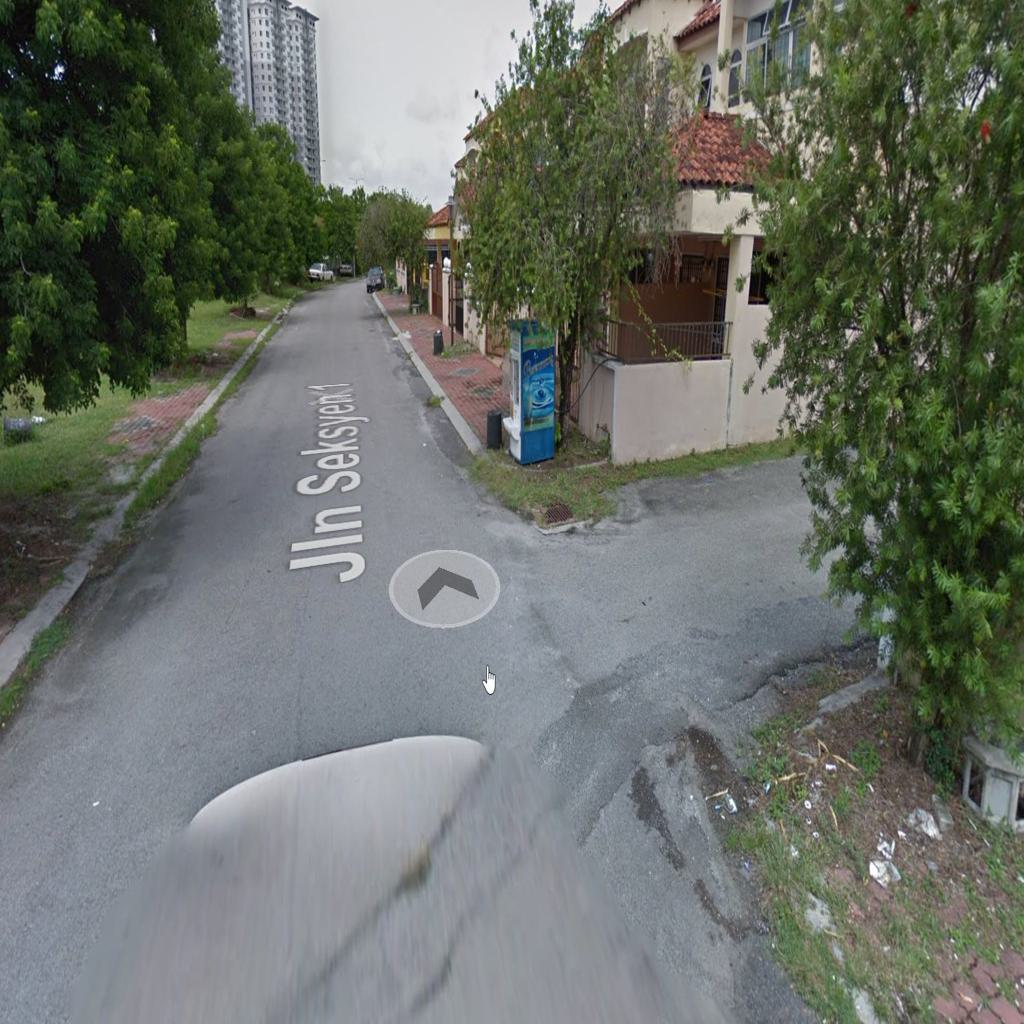Junction: (454, 453, 916, 825)
